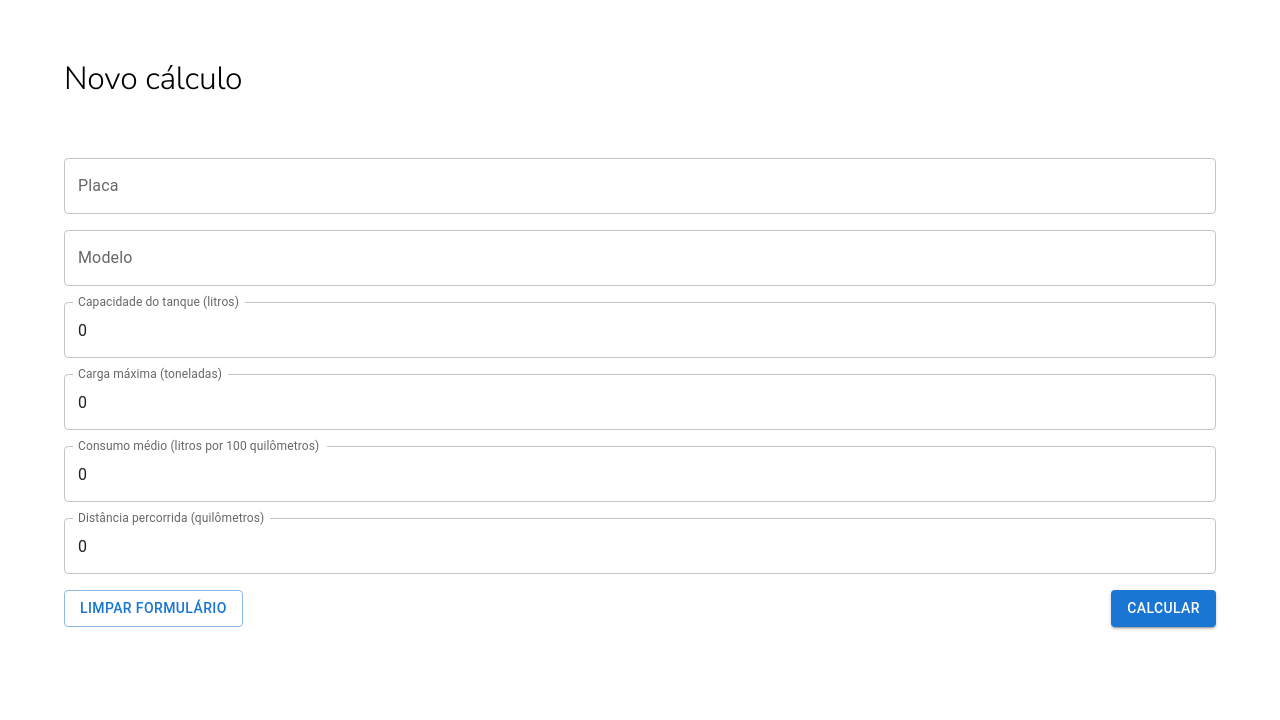
Test case: Main.tsx › should display an error if the license plate is invalid
The width and height of the screenshot is (1280, 720).
Type "Placa inválida" into the field labelled "Placa" at (640, 186), box [64, 158, 1216, 214]
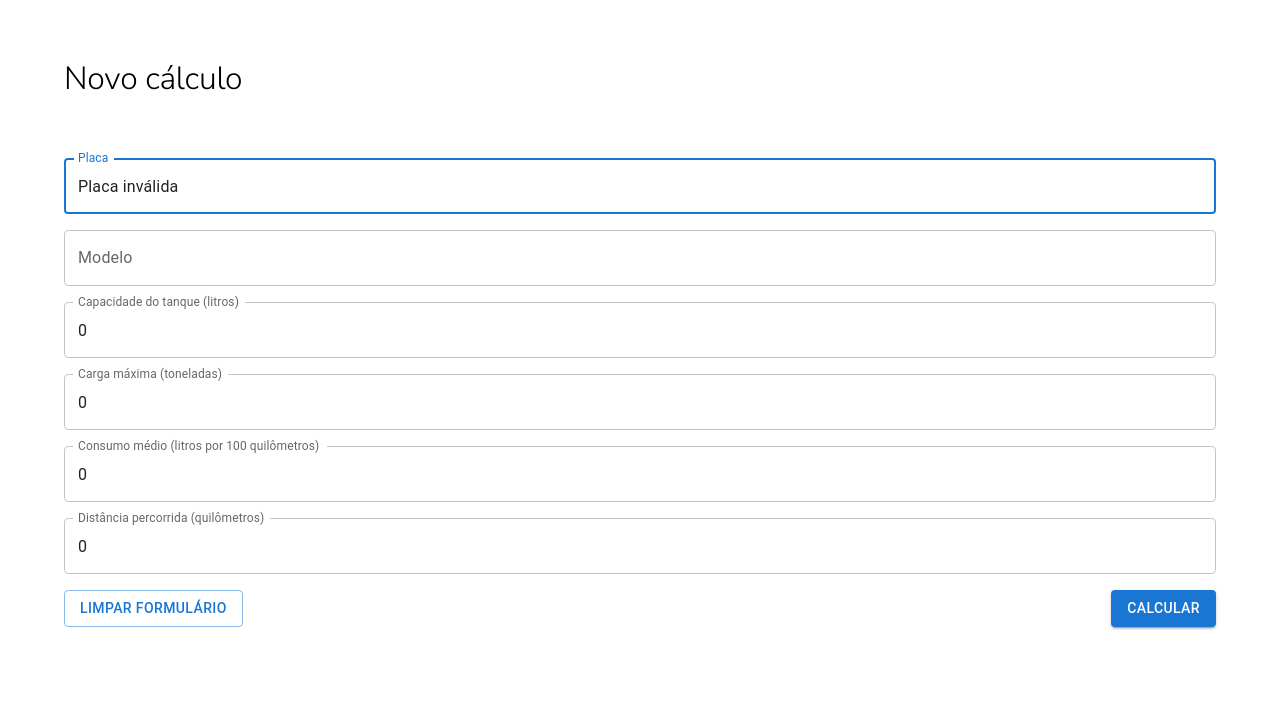
Click the button "Calcular" at (1164, 609), box [1111, 590, 1216, 627]
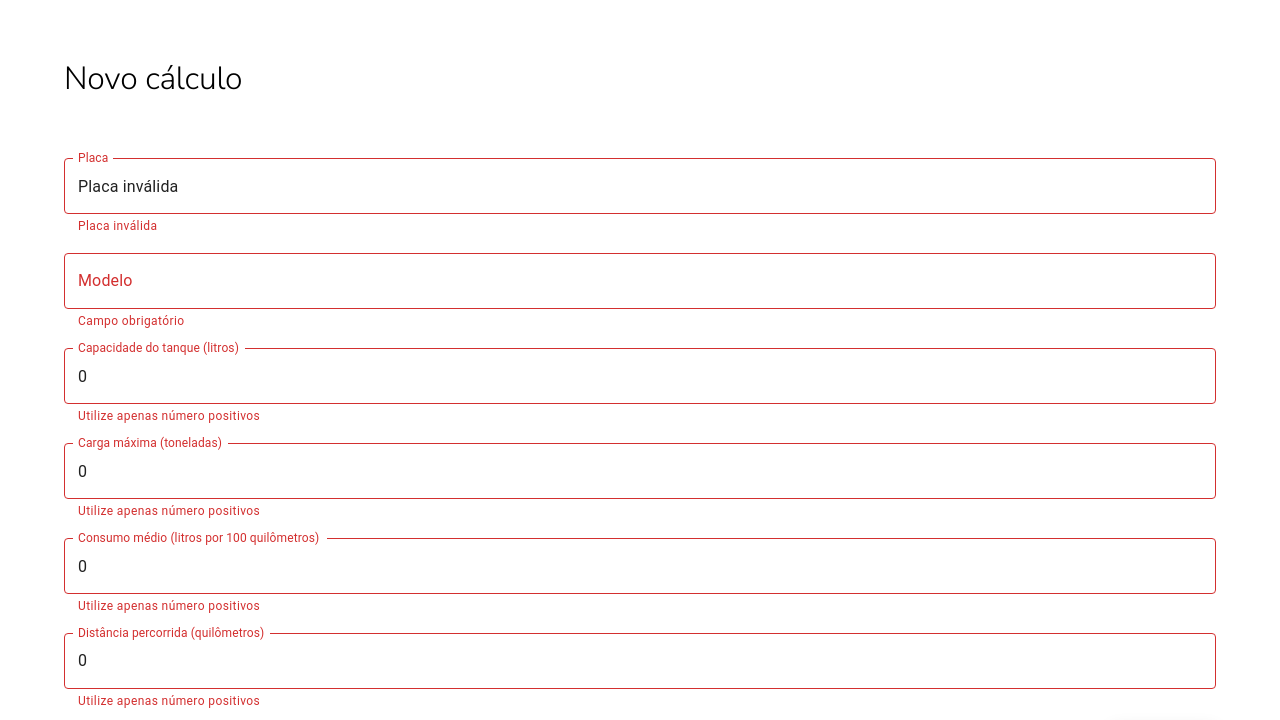
Check: the text "Placa inválida" is shown, box [78, 219, 157, 233]
